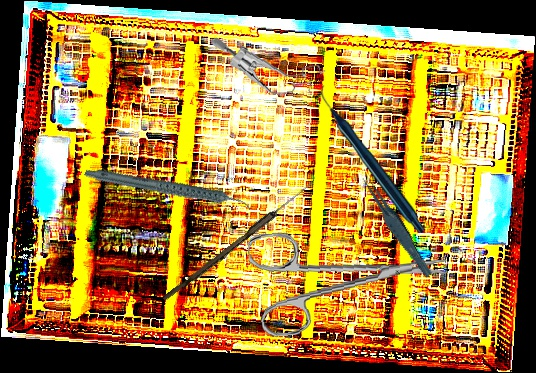Handpiece: (83, 136, 253, 245), (320, 85, 426, 233)
Iris Scissors: (246, 218, 452, 339)
Speculum: (210, 27, 328, 102)
Surgical Spoon: (162, 178, 315, 305)
Tissue Forceps: (360, 170, 434, 282)
